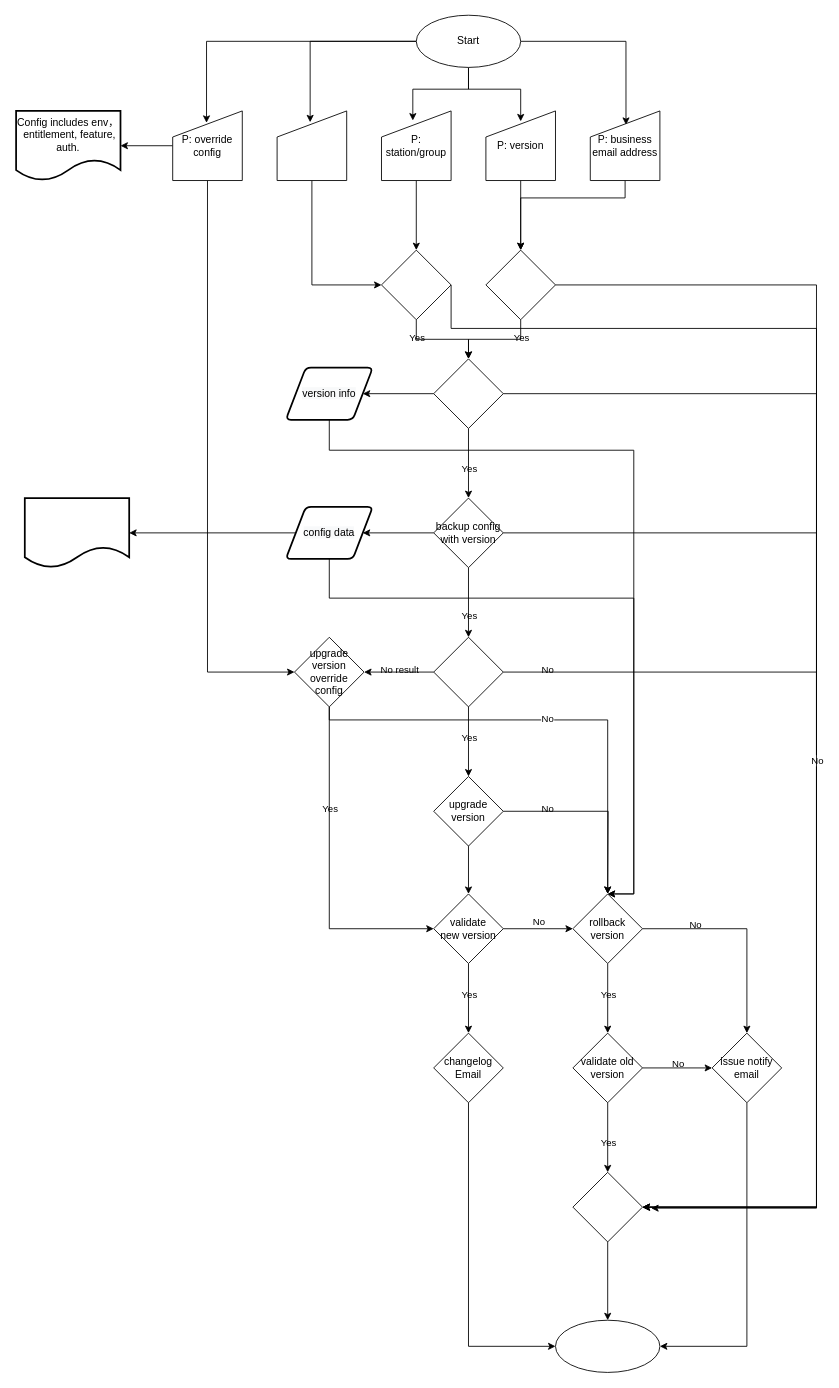
Image size: 839x1388. Some labels were removed from this diagram. The shapes that lost their labels are listed below. From the top down, each one's centre as x and y in pixels, then its label:
At [311,145]: "P: shop".
At [416,284]: "validate exist".
At [520,284]: "validate parten".
At [468,393]: "get current version".
At [76,532]: "Config includes version, env, entitlement, feature, auth.".
At [468,671]: "validate config with version".
At [607,1206]: "builder n otify email".
At [607,1345]: "The end".
